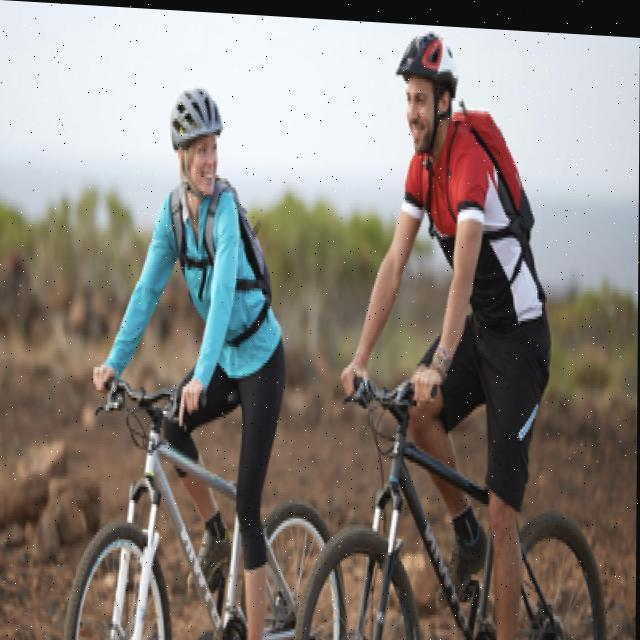Helmet: (384, 23, 470, 156), (164, 62, 228, 221)
